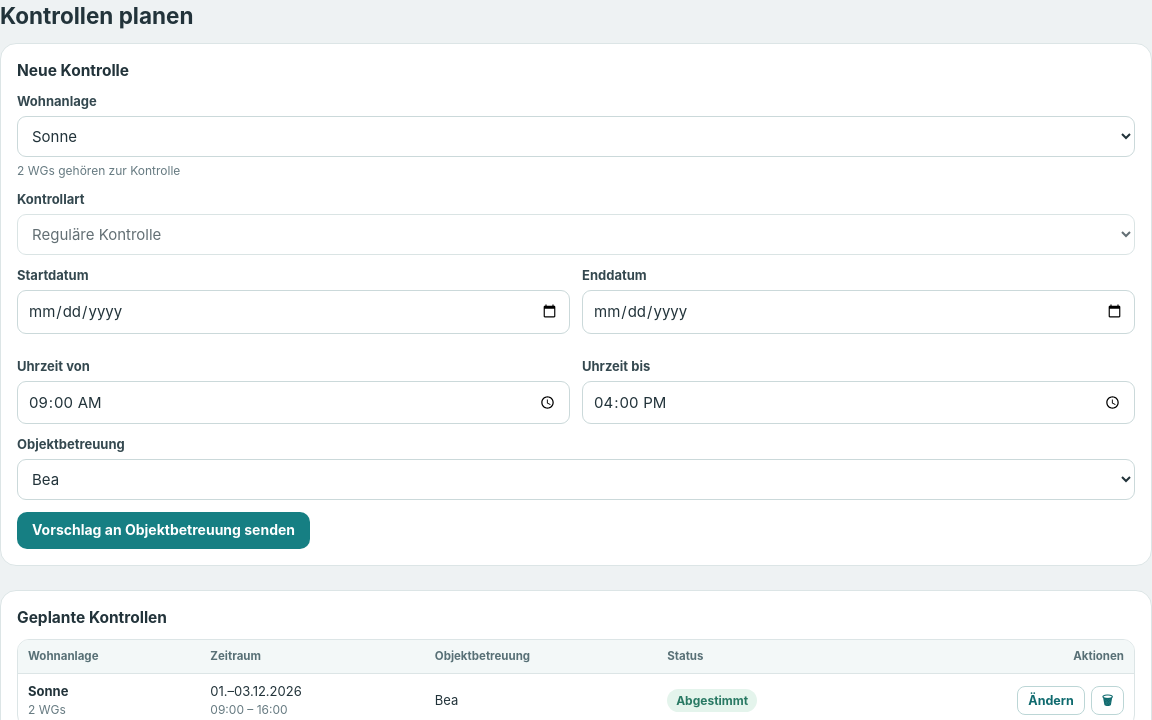
Scenario: sends a changed period with its version
Step 1. Click the link with aria-label "Zeitraum für Sonne ändern" → (1051, 700), box top-left (1017, 686), bottom-right (1085, 715)
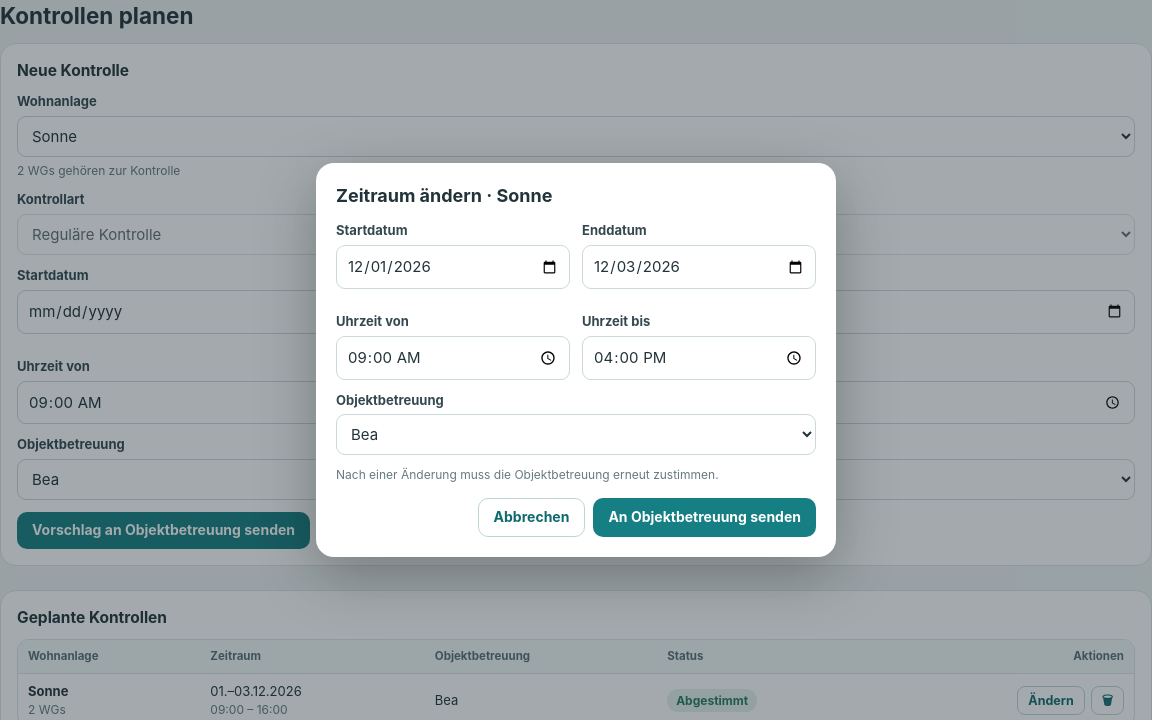
Expected: the table named "Geplante Kontrollen" shows "Sonne", top-left (28, 683), bottom-right (68, 699)
Now the dialog "Zeitraum ändern · Sonne" is shown, box top-left (316, 163), bottom-right (836, 557)
Step 2. Type "2026-12-04" into the date field labelled "Enddatum" → (699, 267), box top-left (582, 245), bottom-right (816, 289)
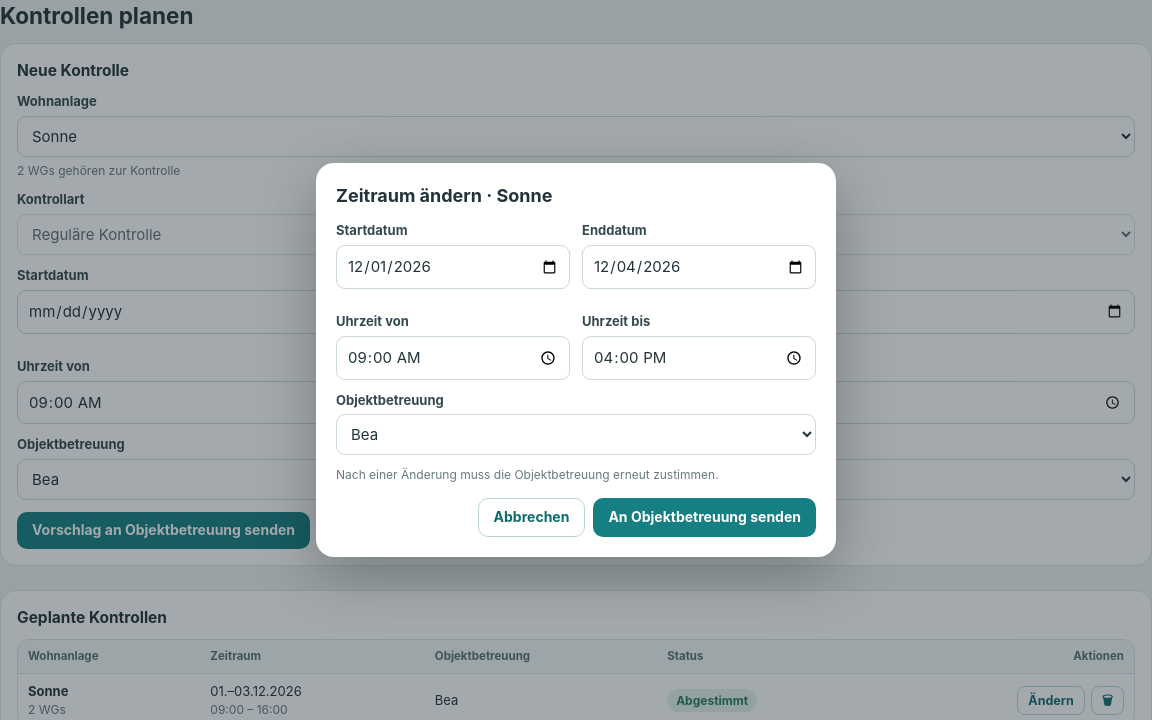
Step 3. Select "Cem" in the dropdown labelled "Objektbetreuung" → (576, 435), box top-left (336, 414), bottom-right (816, 456)
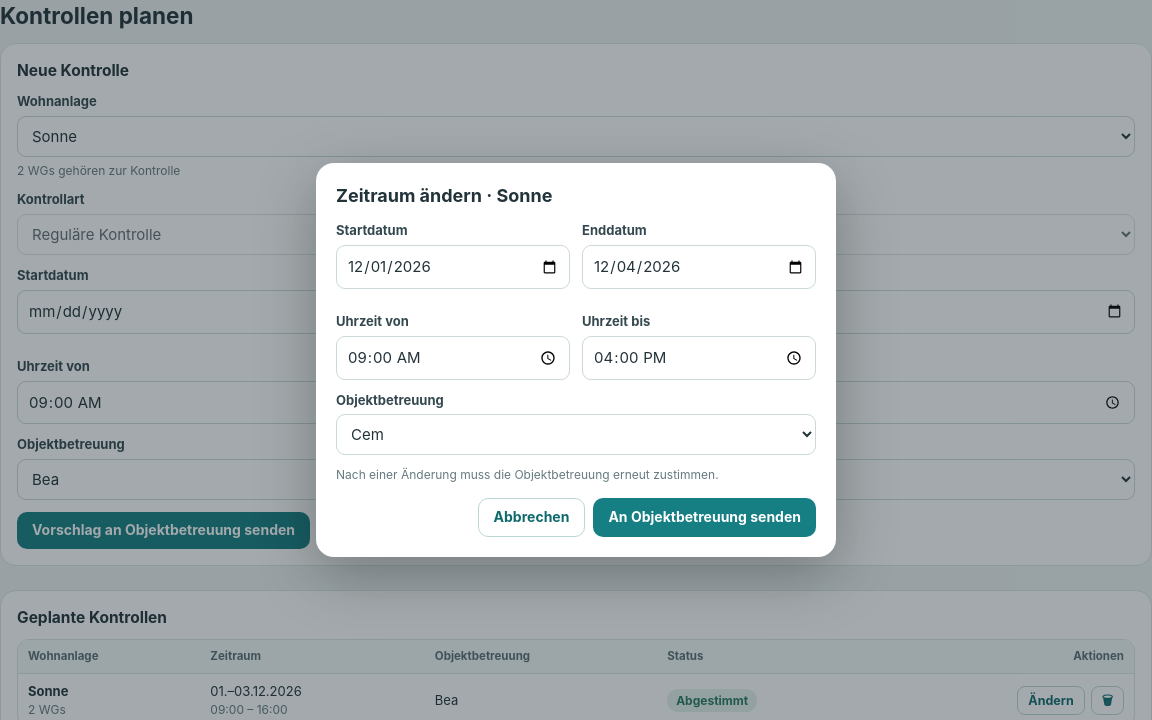
Step 4. Click the button "An Objektbetreuung senden" → (705, 517), box top-left (593, 498), bottom-right (816, 537)
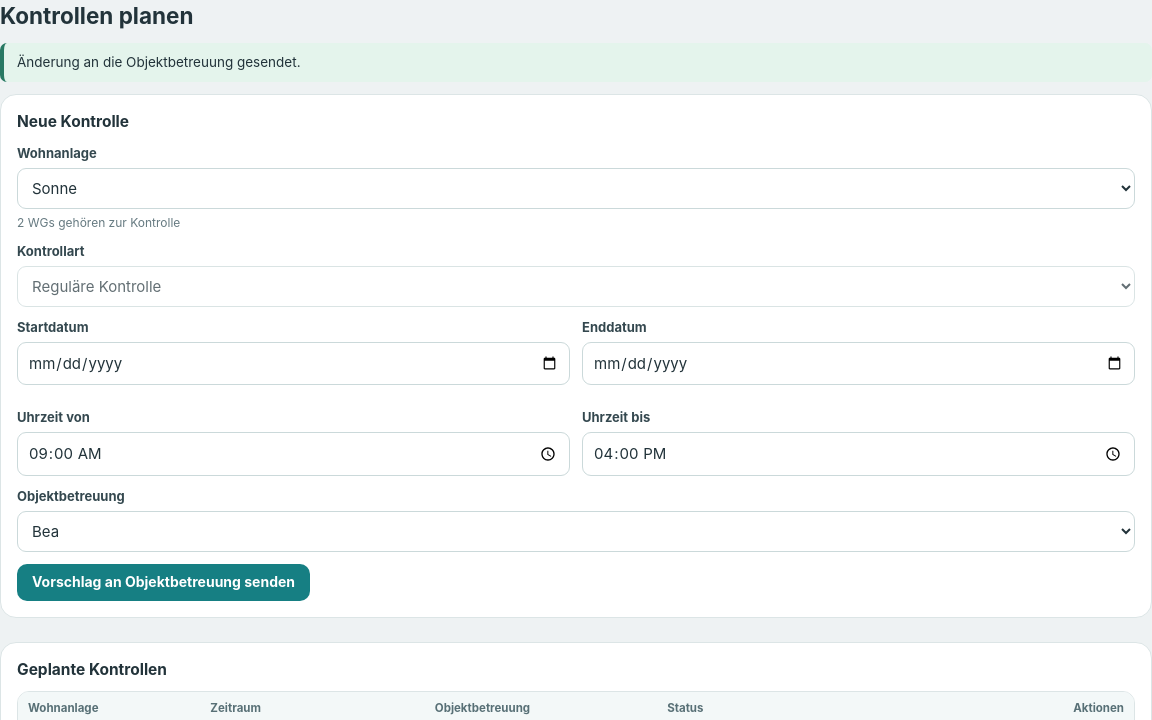
Now the message reads "Änderung an die Objektbetreuung gesendet.", box top-left (17, 54), bottom-right (300, 70)
